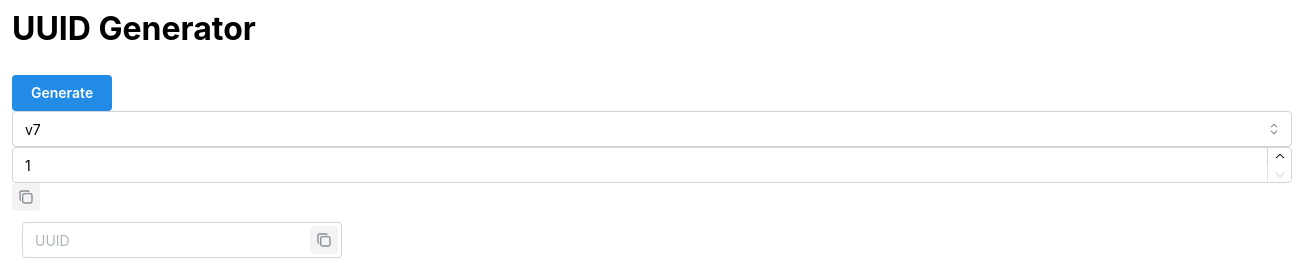
Scenario: UUIDGenerator › generates UUIDs when clicking Generate button
The image size is (1304, 275).
Click the button "Generate".
click(62, 94)  # box x1=12 y1=76 x2=112 y2=112
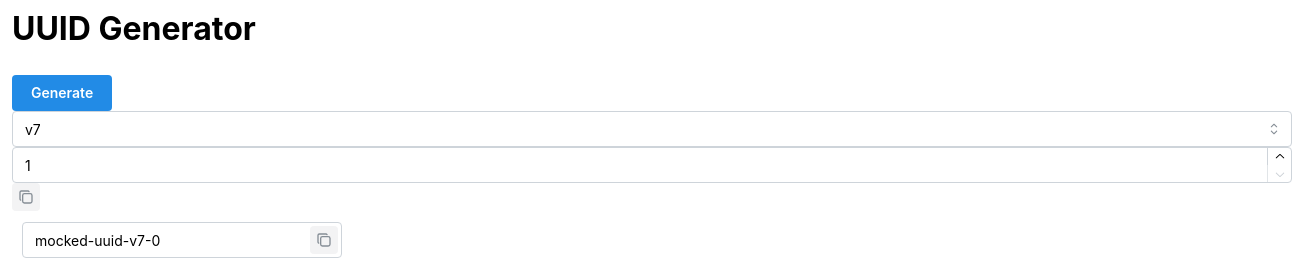
Expected: the 3rd field with placeholder "UUID" holds "mocked-uuid-v7-0", x1=22 y1=222 x2=342 y2=258
